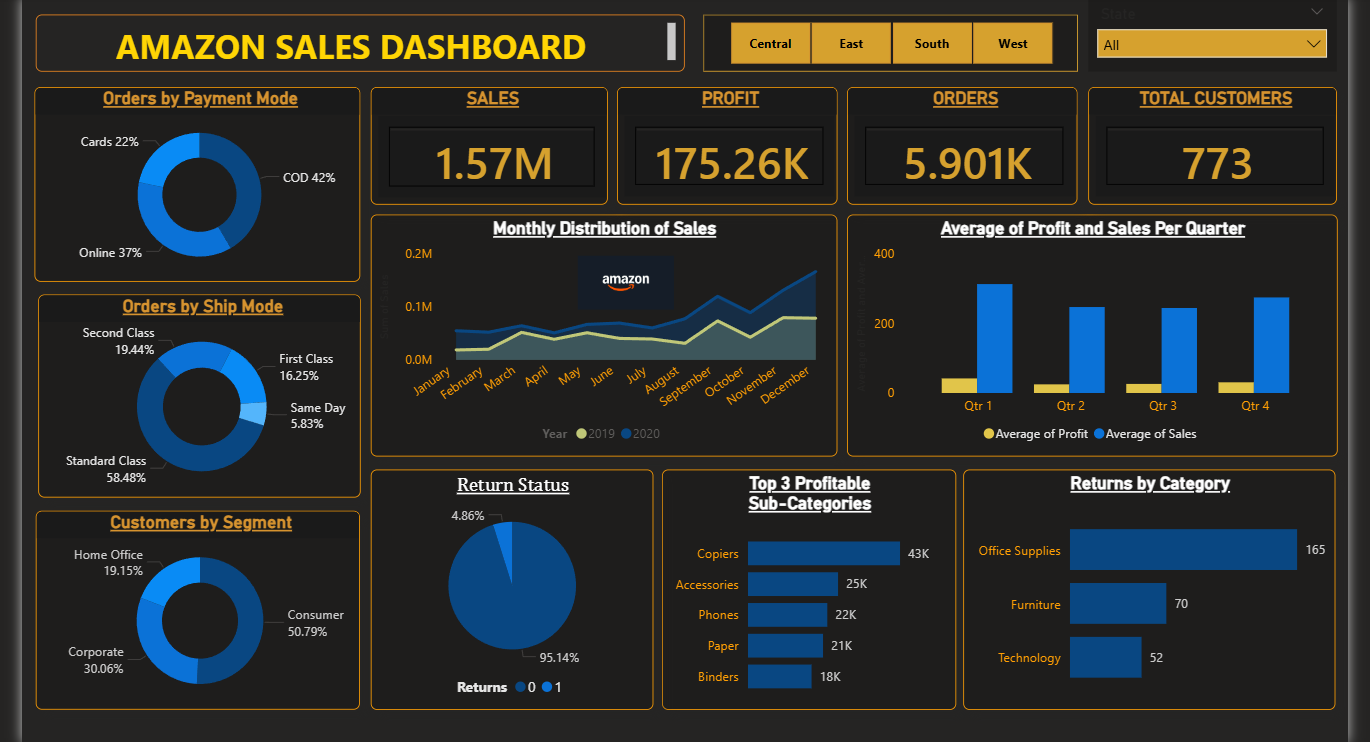

Layout of this report page (visuals, bound fields, positions):
{"tool":"powerbi","page":{"name":"Amazon sales dashboard","canvas":[1280,720],"ordinal":0},"visuals":[{"type":"textbox","box":[13.3,16.9,626.1,55.5],"z":0},{"type":"donutChart","title":"Orders by Payment Mode","fields":{"Category":["Sheet1.Payment Mode"],"Y":["CountNonNull(Sheet1.Order ID)"]},"box":[12.3,86.4,314.2,188],"z":1000},{"type":"donutChart","title":"Orders by Ship Mode","fields":{"Category":["Sheet1.Ship Mode"],"Y":["CountNonNull(Sheet1.Order ID)"]},"box":[15.1,286.8,311.5,196.2],"z":2000},{"type":"lineChart","title":"Monthly Distribution of Sales","fields":{"Category":["Sheet1.Order Date.Variation.Date Hierarchy.Month"],"Y":["Sum(Sheet1.Sales)"],"Series":["Sheet1.Order Date.Variation.Date Hierarchy.Year"]},"box":[336.2,209.9,450.1,233.3],"z":3000},{"type":"clusteredColumnChart","title":"Average of Profit and Sales Per Quarter","fields":{"Category":["Sheet1.Order Date.Variation.Date Hierarchy.Quarter"],"Y":["Avg(Sheet1.Profit)","Avg(Sheet1.Sales)"]},"box":[795.9,209.9,473.4,233.3],"z":4000},{"type":"donutChart","title":"Customers by Segment","fields":{"Series":["Sheet1.Segment"],"Y":["CountNonNull(Sheet1.Customer ID)"]},"box":[13.7,495.4,312.9,192.1],"z":5000},{"type":"clusteredBarChart","title":"Top 3 Profitable Sub-Categories","fields":{"Category":["Sheet1.Sub-Category"],"Y":["Sum(Sheet1.Profit)"]},"box":[617.5,455.6,284,231.9],"z":6000},{"type":"pieChart","title":"Return Status","fields":{"Y":["CountNonNull(Sheet1.Order ID)"],"Category":["Sheet1.Returns"]},"box":[336.2,455.6,273.1,231.9],"z":7000},{"type":"cardVisual","title":"SALES","fields":{"Data":["Sum(Sheet1.Sales)"]},"box":[336.2,86.4,229.2,113.9],"z":8000},{"type":"cardVisual","title":"PROFIT","fields":{"Data":["Sum(Sheet1.Profit)"]},"box":[573.8,86.6,212.7,113.8],"z":9000},{"type":"cardVisual","title":"ORDERS","fields":{"Data":["CountNonNull(Sheet1.Order ID)"]},"box":[796.4,86.6,222.6,113.8],"z":10000},{"type":"cardVisual","title":"TOTAL CUSTOMERS","fields":{"Data":["Count(Sheet1.Customer ID)"]},"box":[1029.1,86.9,240.1,113.4],"z":11000},{"type":"slicer","fields":{"Values":["Sheet1.Region"]},"box":[657.5,16.9,361.9,55.5],"z":12000},{"type":"image","box":[526,249.7,113.4,51.9],"z":13000},{"type":"slicer","fields":{"Values":["Sheet1.State"]},"box":[1029.1,0,240.1,72.4],"z":14000},{"type":"clusteredBarChart","title":"Returns by Category","fields":{"Category":["Sheet1.Category"],"Y":["Sum(Sheet1.Returns)"]},"box":[908.4,455.6,359.5,231.9],"z":15001}]}

Visuals, with their boxes in screenshot pixels (x1, y1, x2, y2):
textbox: Rect(21, 18, 681, 76)
"Orders by Payment Mode" donutChart: Rect(20, 91, 351, 289)
"Orders by Ship Mode" donutChart: Rect(23, 302, 351, 509)
"Monthly Distribution of Sales" lineChart: Rect(361, 221, 836, 467)
"Average of Profit and Sales Per Quarter" clusteredColumnChart: Rect(846, 221, 1345, 467)
"Customers by Segment" donutChart: Rect(22, 522, 351, 724)
"Top 3 Profitable Sub-Categories" clusteredBarChart: Rect(658, 480, 957, 724)
"Return Status" pieChart: Rect(361, 480, 649, 724)
"SALES" cardVisual: Rect(361, 91, 603, 211)
"PROFIT" cardVisual: Rect(612, 91, 836, 211)
"ORDERS" cardVisual: Rect(846, 91, 1081, 211)
"TOTAL CUSTOMERS" cardVisual: Rect(1092, 92, 1345, 211)
slicer - Sheet1.Region: Rect(700, 18, 1081, 76)
image: Rect(561, 263, 681, 318)
slicer - Sheet1.State: Rect(1092, 0, 1345, 76)
"Returns by Category" clusteredBarChart: Rect(964, 480, 1343, 724)
